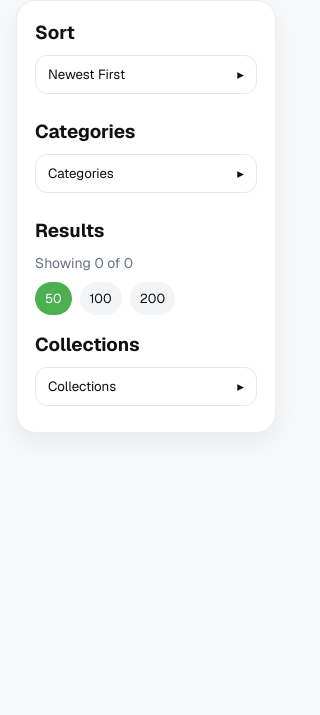
ImageGallery search suggestions › keeps categories closed until the filter is clicked
Click the button "Categories ▸" at point(146, 174), box [35,154,257,193]
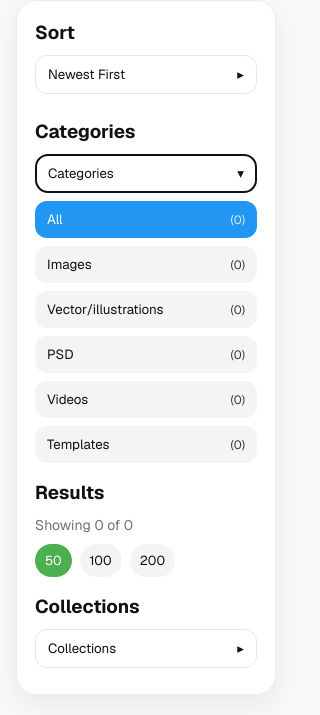
Now the button "Categories ▾" is expanded, box [35,154,257,193]
